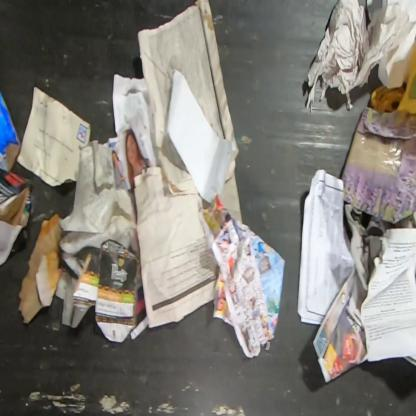cardboard: (340, 106, 416, 224), (71, 240, 139, 342), (0, 168, 35, 266), (0, 92, 22, 173)
soft_plastic: (371, 38, 415, 116)
